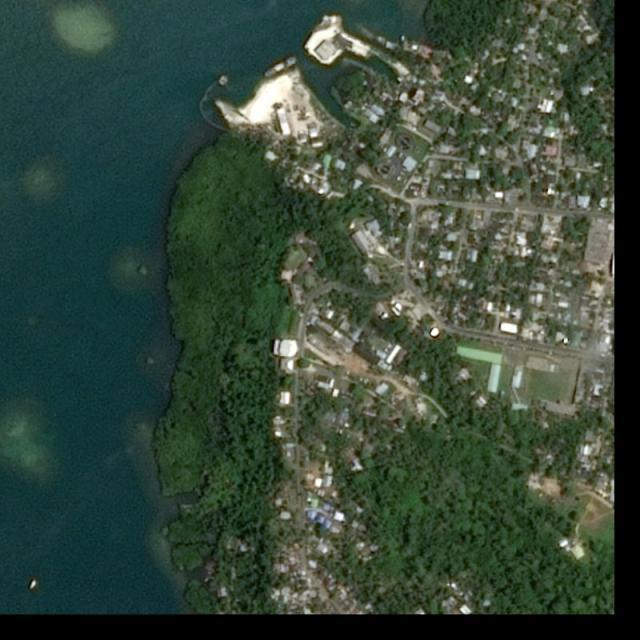ship: (29, 578, 38, 590)
